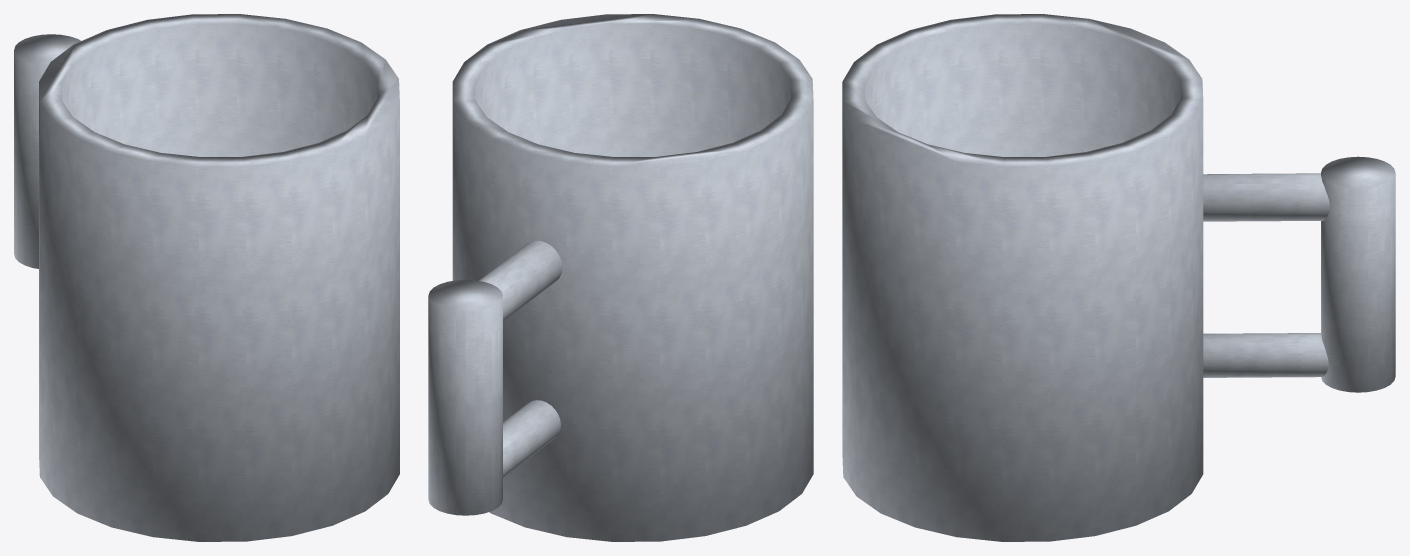
The picture shows the model from 3 angles, left to right: view 1: azimuth 30°, elevation 25°; view 2: azimuth 150°, elevation 25°; view 3: azimuth 270°, elevation 25°; orthographic projection.
Parts seen in each view (by area): view 1: mesh1_mesh1-geometry, mesh4_mesh4-geometry; view 2: mesh1_mesh1-geometry, mesh4_mesh4-geometry, mesh2_mesh2-geometry, mesh3_mesh3-geometry; view 3: mesh1_mesh1-geometry, mesh4_mesh4-geometry, mesh2_mesh2-geometry, mesh3_mesh3-geometry.
Boxes of the visible parts, left/top/right/bottom form: mesh1_mesh1-geometry: left=39, top=14, right=399, bottom=541; mesh4_mesh4-geometry: left=14, top=34, right=80, bottom=268; mesh1_mesh1-geometry: left=452, top=14, right=813, bottom=541; mesh4_mesh4-geometry: left=428, top=279, right=502, bottom=515; mesh2_mesh2-geometry: left=479, top=240, right=562, bottom=321; mesh3_mesh3-geometry: left=503, top=400, right=560, bottom=477; mesh1_mesh1-geometry: left=842, top=14, right=1203, bottom=541; mesh4_mesh4-geometry: left=1321, top=156, right=1395, bottom=392; mesh2_mesh2-geometry: left=1203, top=173, right=1329, bottom=221; mesh3_mesh3-geometry: left=1203, top=333, right=1328, bottom=377.
Size of the model in its own units: 0.4628 by 0.5315 by 0.7095.
2 materials, 1 textured.
